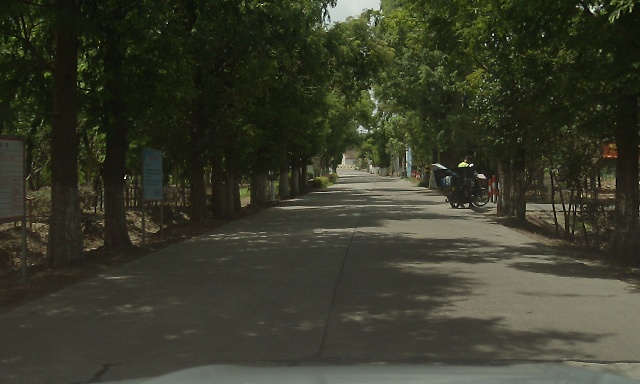motorcycle: (431, 156, 490, 209)
